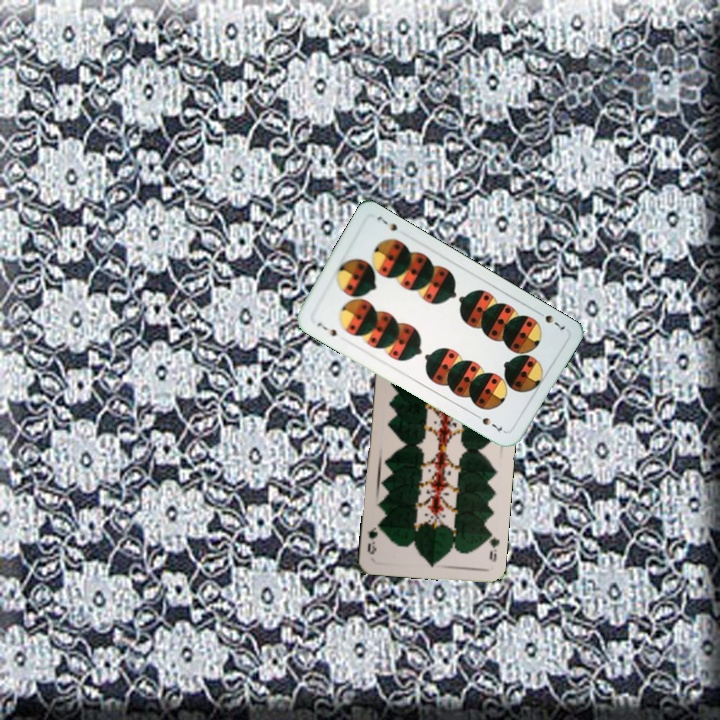G9: (484, 527, 502, 564)
S7: (532, 307, 568, 332), (313, 318, 339, 339)
